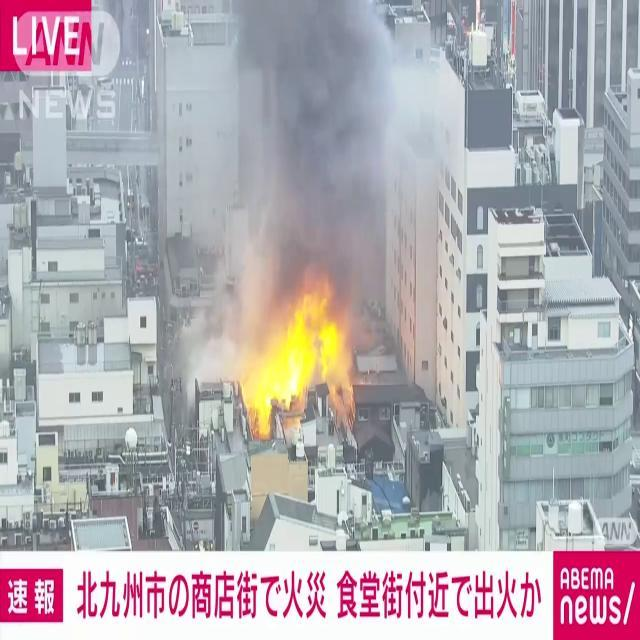Fire: (239, 282, 359, 432)
Smoke: (198, 1, 434, 314)
